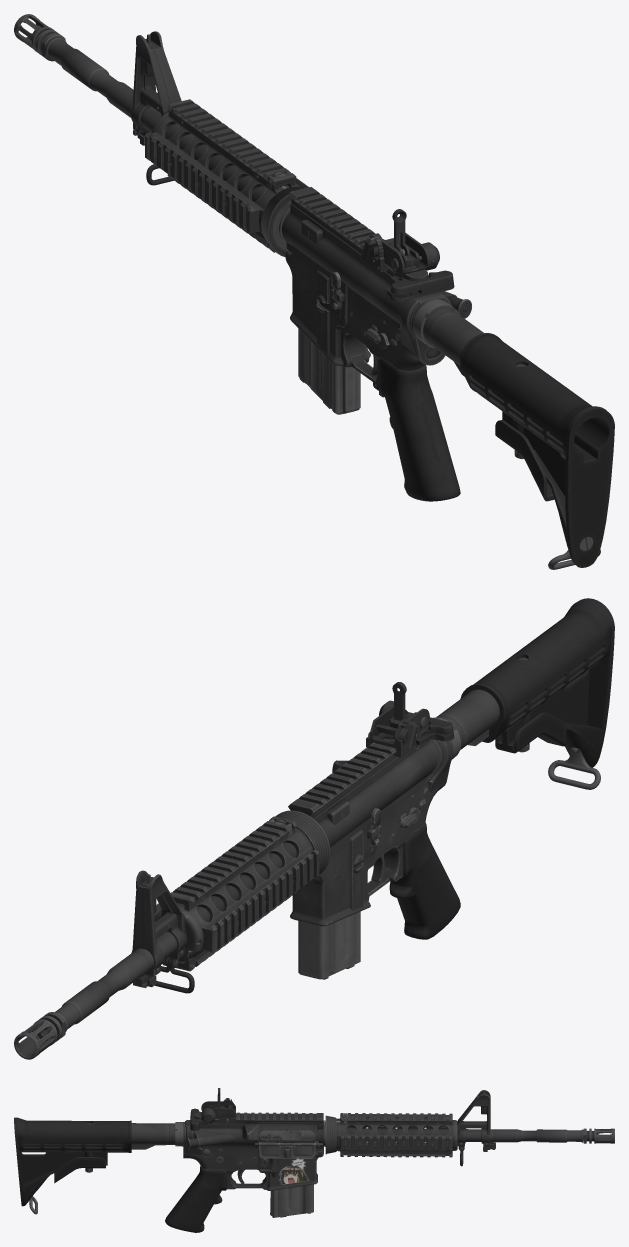
The model's file is carbine.glb.
The picture shows the model from 3 angles, top to bottom: view 1: azimuth 30°, elevation 25°; view 2: azimuth 150°, elevation 25°; view 3: azimuth 270°, elevation 25°; orthographic projection. The views are drawn at different scales.
Visible parts, largest first — view 1: body (×3), magazine; view 2: body (×3), magazine; view 3: body (×3), magazine.
Part boxes in pixels (x1,y1,x2,y2): body (×3): [14, 14, 614, 569]; magazine: [298, 329, 360, 414]; body (×3): [14, 598, 614, 1059]; magazine: [298, 911, 360, 979]; body (×3): [14, 1088, 614, 1232]; magazine: [270, 1184, 313, 1217].
Bounding box in the file's own units: 0.077 × 0.2474 × 0.95.
4 materials, 4 textured.
